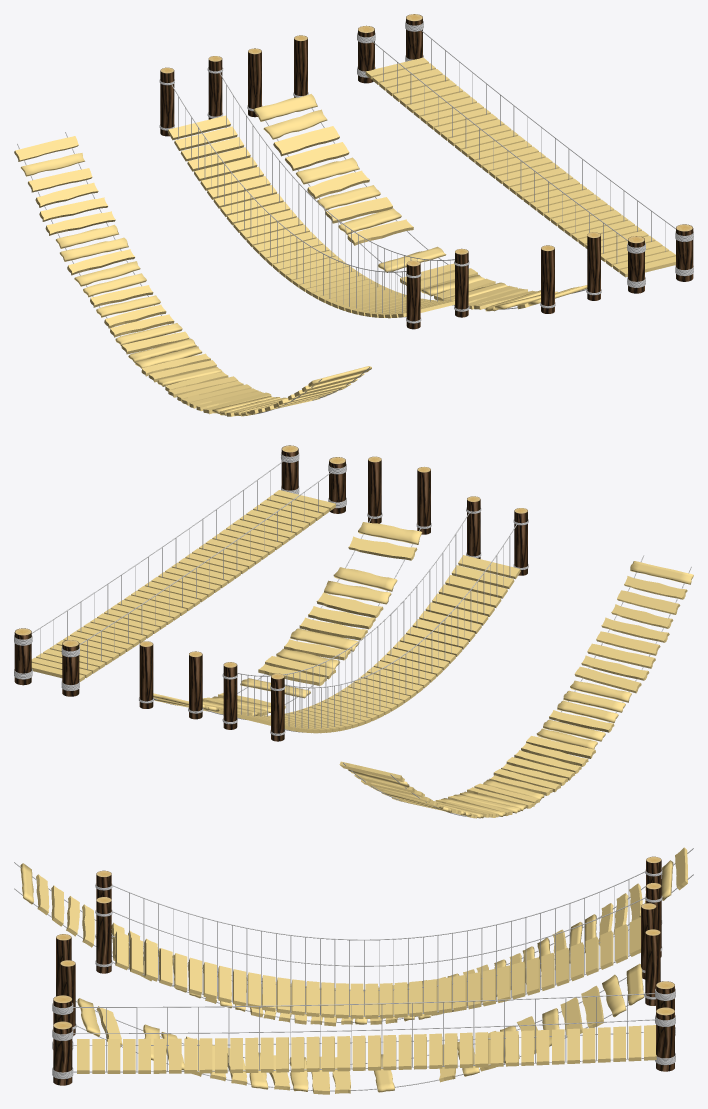
Rendered from GameObject (1).fbx.
3 views of the same model, one above another, from view 1: azimuth 30°, elevation 25°; view 2: azimuth 150°, elevation 25°; view 3: azimuth 270°, elevation 25° (orthographic). The views are drawn at different scales.
Parts seen in each view (by area): view 1: Rope_Bridge_With_Railing, Rope_Bridge_With_Railing__2_, Rope_Bridge_With_Railing__3_, Rope_Bridge_With_Railing__1_; view 2: Rope_Bridge_With_Railing, Rope_Bridge_With_Railing__2_, Rope_Bridge_With_Railing__3_, Rope_Bridge_With_Railing__1_; view 3: Rope_Bridge_With_Railing__2_, Rope_Bridge_With_Railing, Rope_Bridge_With_Railing__1_, Rope_Bridge_With_Railing__3_.
Part boxes in pixels (left/top/right/bottom): Rope_Bridge_With_Railing: left=159, top=56, right=469, bottom=329; Rope_Bridge_With_Railing__2_: left=357, top=14, right=693, bottom=293; Rope_Bridge_With_Railing__3_: left=14, top=132, right=371, bottom=416; Rope_Bridge_With_Railing__1_: left=247, top=35, right=601, bottom=313; Rope_Bridge_With_Railing: left=222, top=496, right=528, bottom=741; Rope_Bridge_With_Railing__2_: left=14, top=445, right=346, bottom=696; Rope_Bridge_With_Railing__3_: left=339, top=555, right=693, bottom=818; Rope_Bridge_With_Railing__1_: left=139, top=456, right=431, bottom=719; Rope_Bridge_With_Railing__2_: left=52, top=981, right=675, bottom=1085; Rope_Bridge_With_Railing: left=95, top=856, right=662, bottom=1018; Rope_Bridge_With_Railing__1_: left=56, top=903, right=660, bottom=1094; Rope_Bridge_With_Railing__3_: left=14, top=847, right=693, bottom=1026.
Bounding box in the file's own units: 1670 × 743 × 2195.
